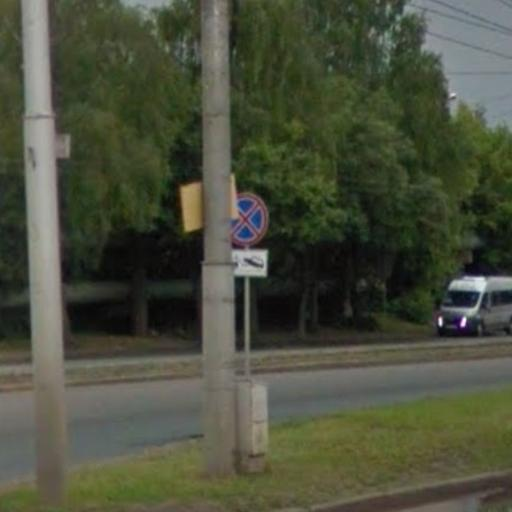traffic_sign: (225, 189, 270, 250)
